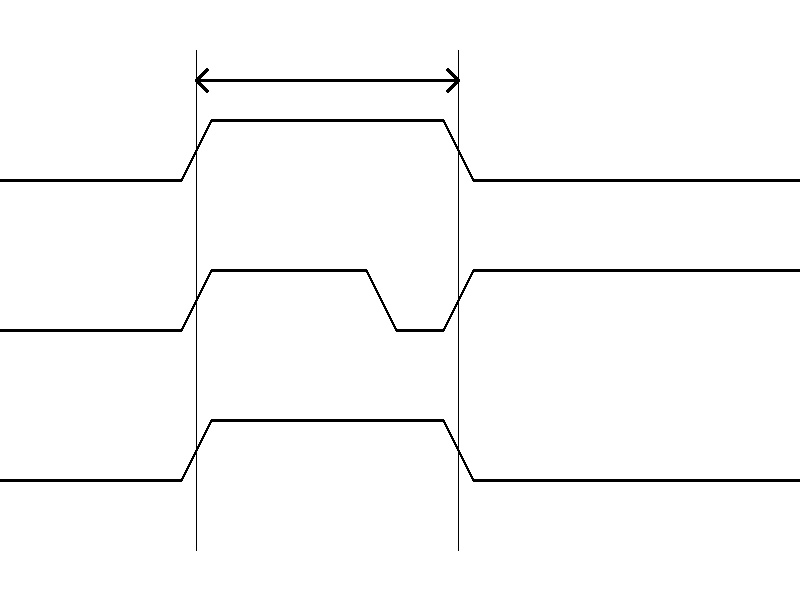double_arrow: (196, 65, 458, 95)
